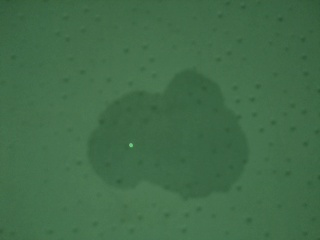Water_detected: (96, 85, 211, 180)
